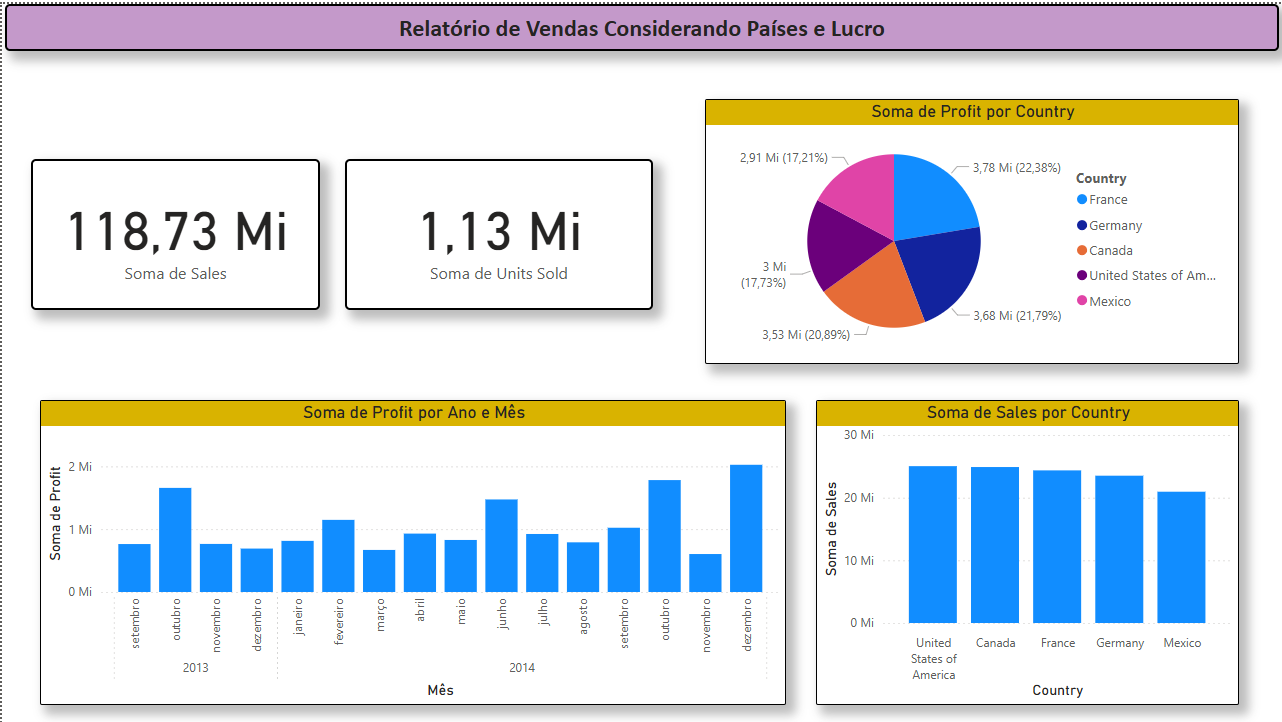

Layout of this report page (visuals, bound fields, positions):
{"tool":"powerbi","page":{"name":"Página 2","canvas":[1280,720],"ordinal":1},"visuals":[{"type":"card","fields":{"Values":["Sum(financials.Sales)"]},"box":[29,155.1,289.3,150.5],"z":0},{"type":"card","fields":{"Values":["Sum(financials.Units Sold)"]},"box":[342.8,155.1,308.3,150.5],"z":1000},{"type":"pieChart","fields":{"Category":["financials.Country"],"Y":["Sum(financials.Profit)"]},"box":[702.6,94.9,534.8,265.3],"z":2000},{"type":"clusteredColumnChart","fields":{"Y":["Sum(financials.Profit)"],"Category":["financials.Date.Variation.Hierarquia de datas.Ano","financials.Date.Variation.Hierarquia de datas.Mês"]},"box":[38.5,396,745.2,305.2],"z":3000},{"type":"clusteredColumnChart","fields":{"Category":["financials.Country"],"Y":["Sum(financials.Sales)"]},"box":[813.9,396,423.5,305.2],"z":4000},{"type":"textbox","box":[2.7,0,1274.1,47.2],"z":5000}]}

Visuals, with their boxes in screenshot pixels (x1, y1, x2, y2), scaled from the page's 1280x720 canvas onto the 1282x722 screenshot:
card - Sum(financials.Sales): detection(29, 156, 319, 306)
card - Sum(financials.Units Sold): detection(343, 156, 652, 306)
pieChart - financials.Country x Sum(financials.Profit): detection(704, 95, 1239, 361)
clusteredColumnChart - Sum(financials.Profit) x financials.Date.Variation.Hierarquia de datas.Ano: detection(39, 397, 785, 703)
clusteredColumnChart - financials.Country x Sum(financials.Sales): detection(815, 397, 1239, 703)
textbox: detection(3, 0, 1279, 47)
